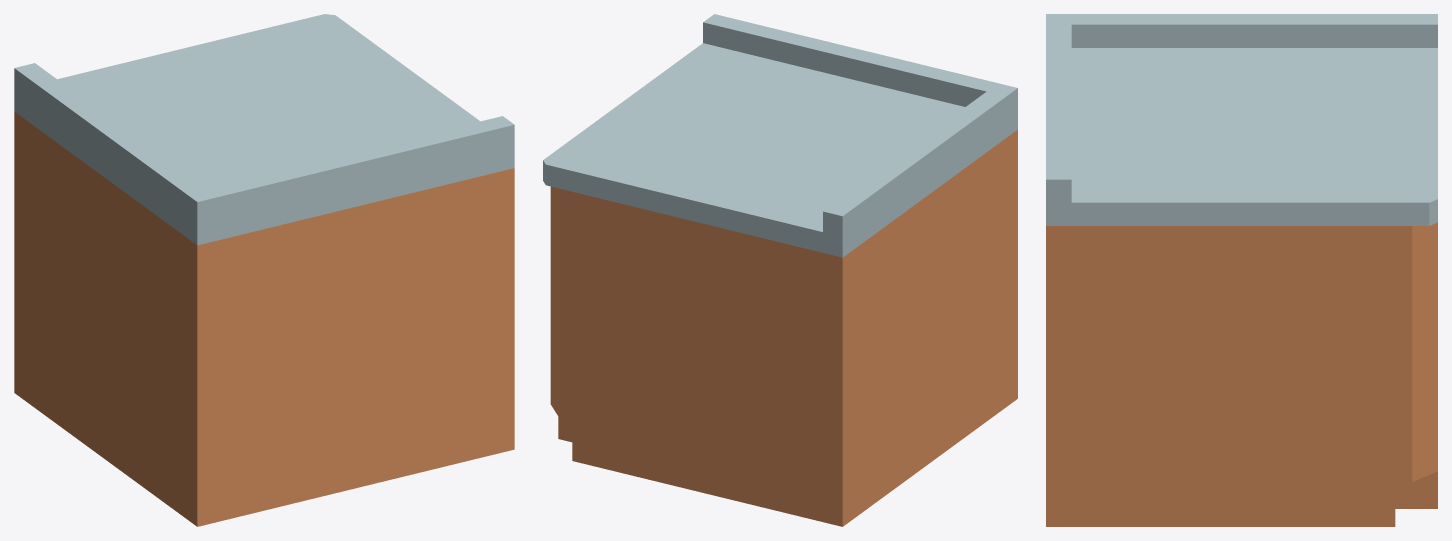
File: kitchen_cabinet_corner_inner.obj
The picture shows the model from 3 angles, left to right: view 1: azimuth 30°, elevation 25°; view 2: azimuth 150°, elevation 25°; view 3: azimuth 270°, elevation 25°; orthographic projection. The views are drawn at different scales.
Parts seen in each view (by area): view 1: kitchenCabinetCornerInner:kitchenCabinetCornerInner; view 2: kitchenCabinetCornerInner:kitchenCabinetCornerInner; view 3: kitchenCabinetCornerInner:kitchenCabinetCornerInner.
Boxes of the visible parts, <box> form: kitchenCabinetCornerInner:kitchenCabinetCornerInner: <box>14,14,514,526</box>; kitchenCabinetCornerInner:kitchenCabinetCornerInner: <box>543,14,1017,526</box>; kitchenCabinetCornerInner:kitchenCabinetCornerInner: <box>1046,14,1437,526</box>.
Size of the model in its own units: 0.46 by 0.45 by 0.46.
